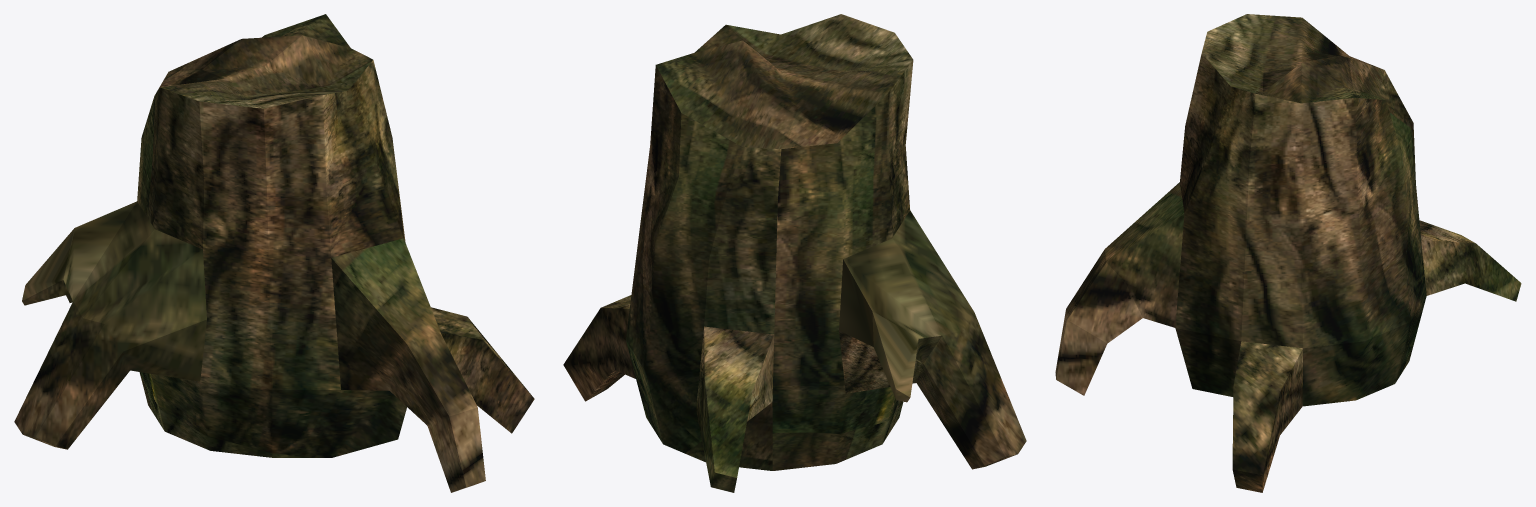
Rendered from DJ_shuzhuang.fbx.
The picture shows the model from 3 angles, left to right: view 1: azimuth 30°, elevation 25°; view 2: azimuth 150°, elevation 25°; view 3: azimuth 270°, elevation 25°; orthographic projection. The views are drawn at different scales.
Parts seen in each view (by area): view 1: DJ_shuzhuang; view 2: DJ_shuzhuang; view 3: DJ_shuzhuang.
Part boxes in pixels (x1,y1,x2,y2): DJ_shuzhuang: [14, 14, 534, 492]; DJ_shuzhuang: [563, 14, 1026, 492]; DJ_shuzhuang: [1055, 14, 1521, 492].
Bounding box in the file's own units: 2.18 × 1.82 × 2.16.
